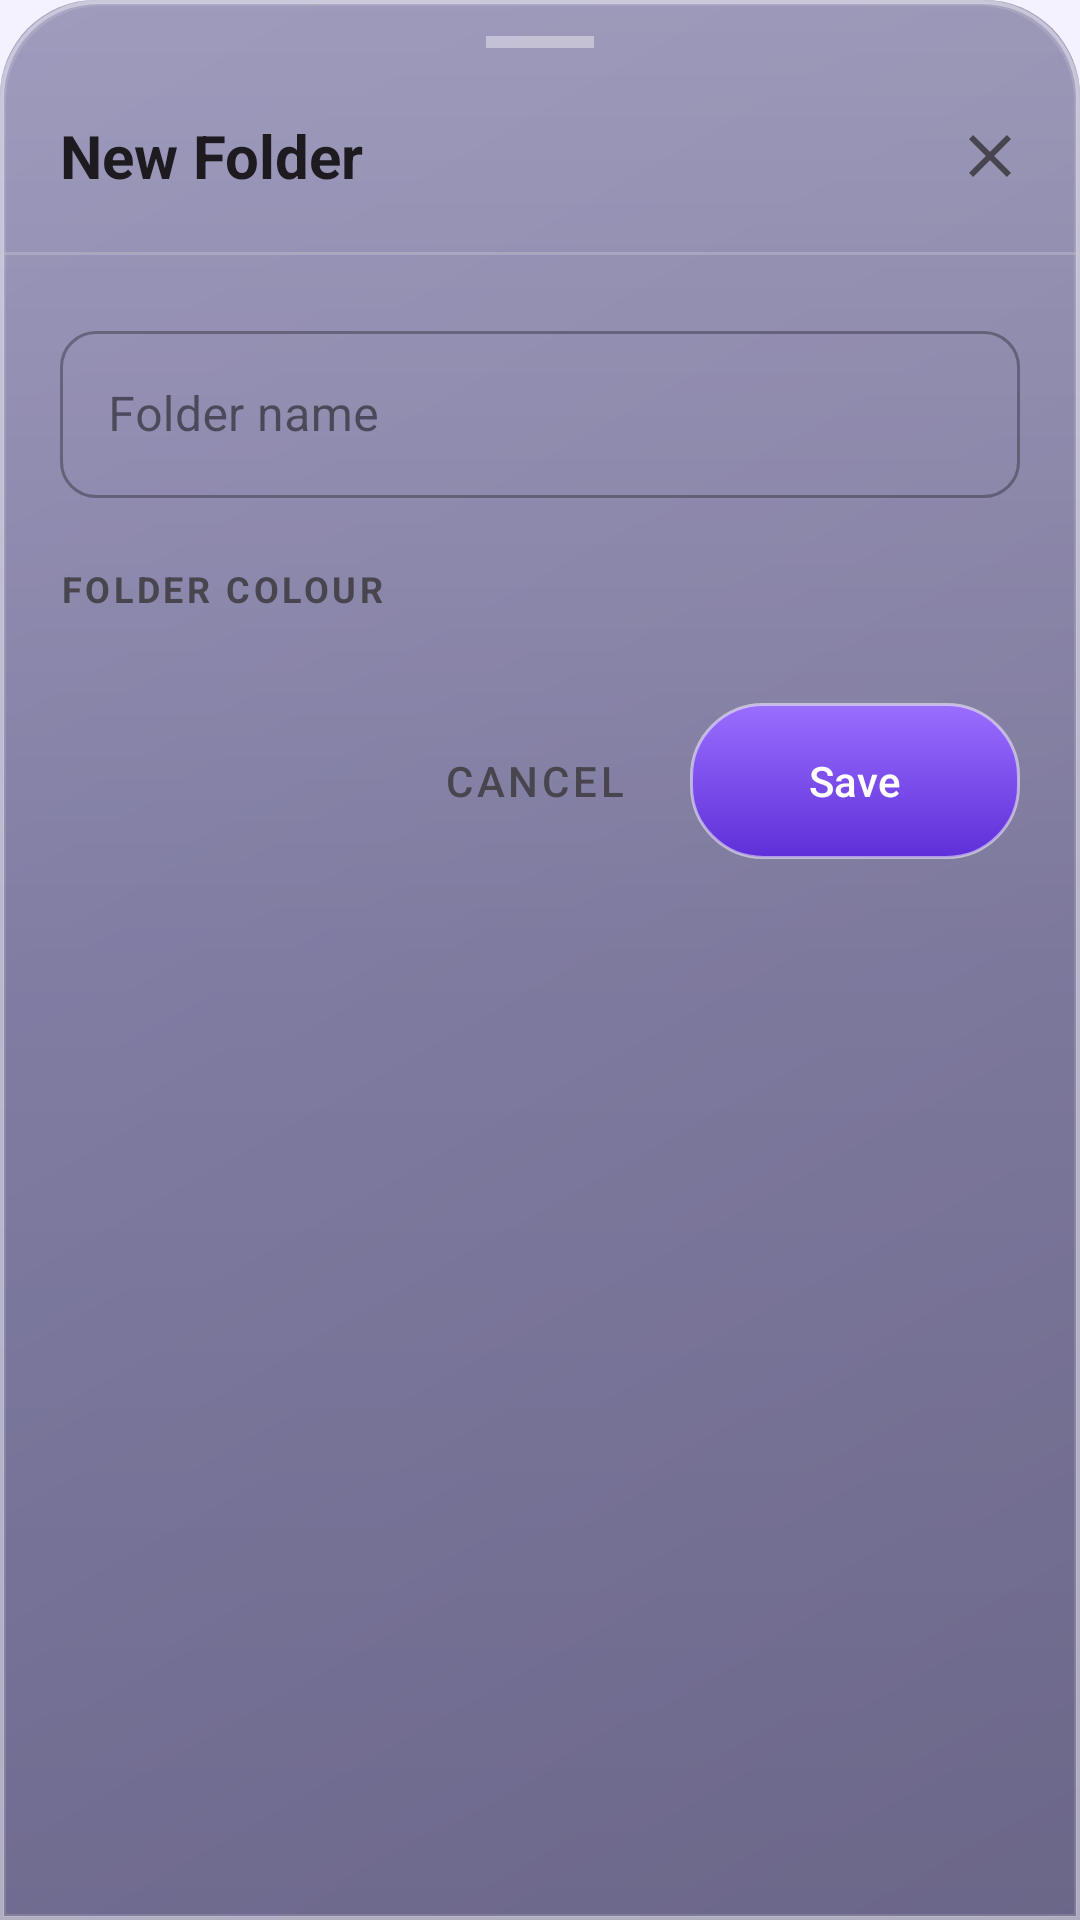

Named icons in this screenshot (1080 x 1920) and their bounding boxes, [x1=x1, y1=y1, x2=x2, y2=y2]:
Close: [x1=969, y1=135, x2=1011, y2=177]
